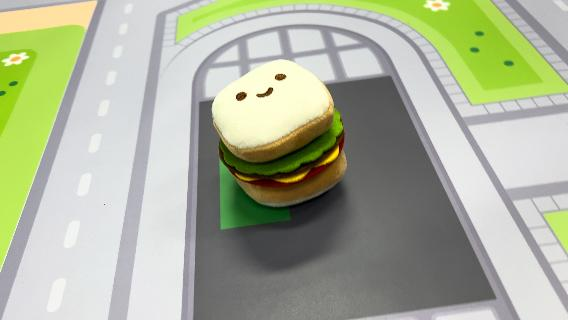sandwich: (210, 57, 350, 209)
